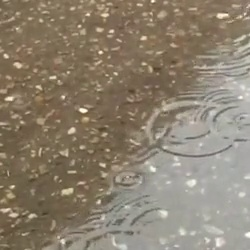drop: (149, 95, 233, 160), (199, 91, 250, 144), (166, 108, 211, 142), (112, 170, 143, 189), (61, 232, 90, 250)
